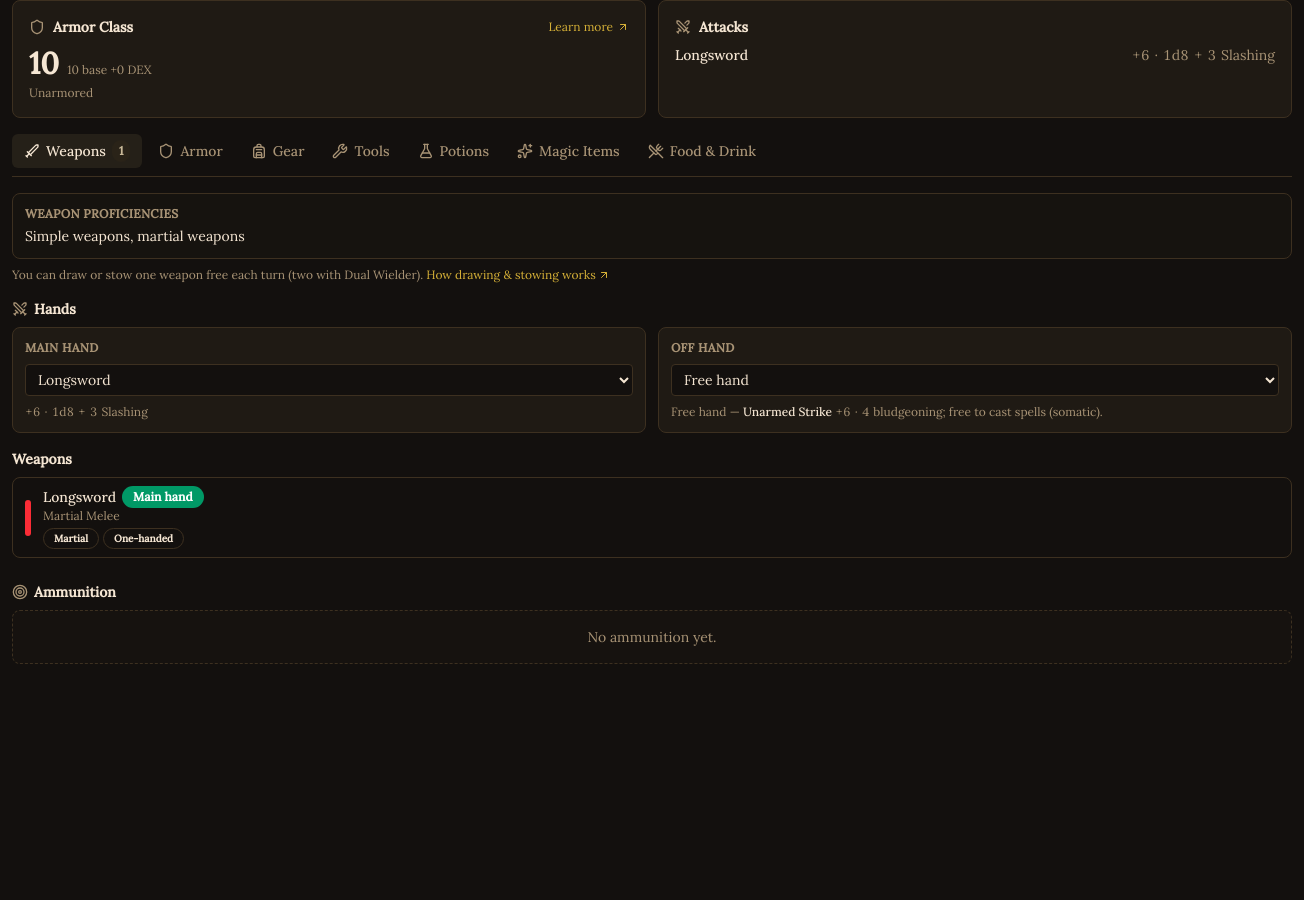
Test: Tools sub-tab — Rune Knight › lists smith's tools in the tool proficiency banner
This screenshot has width=1304, height=900.
Click the button with test id "inv-category-tools": (361, 151) [320, 134, 402, 168]
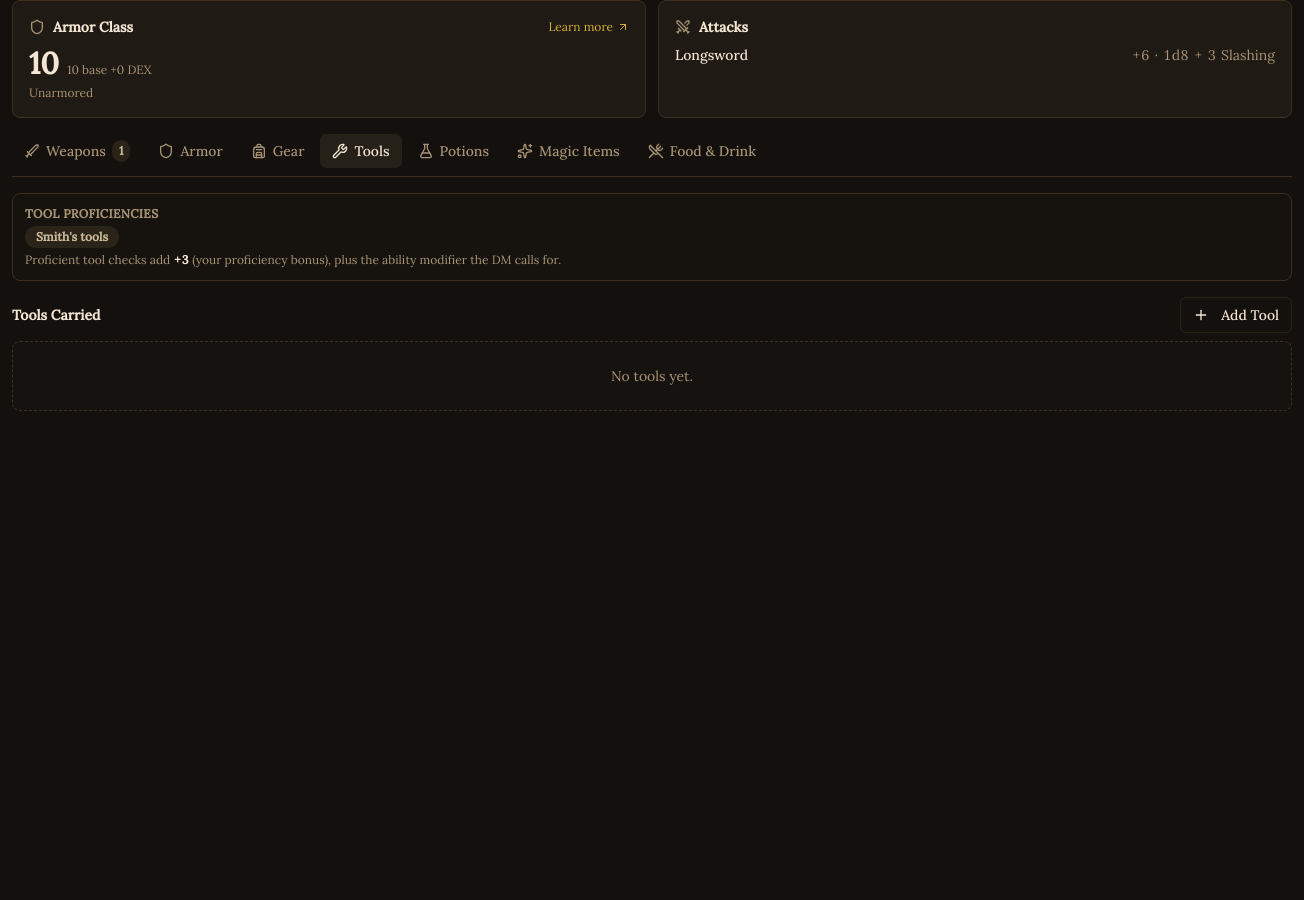
Now the text "Smith's tools" is shown, box [25, 226, 119, 248]
